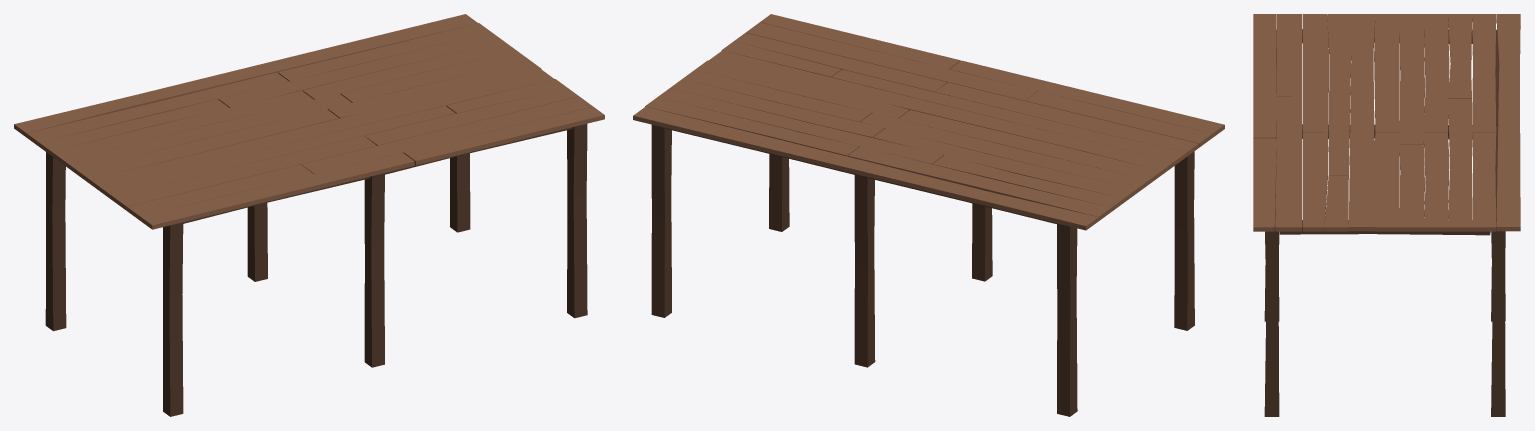
File: Table_1_Regular.fbx
3 renders of one model, left to right at view 1: azimuth 30°, elevation 25°; view 2: azimuth 150°, elevation 25°; view 3: azimuth 270°, elevation 25°, orthographic. The views are drawn at different scales.
Parts seen in each view (by area): view 1: Cube.030; view 2: Cube.030; view 3: Cube.030.
Part boxes in pixels (x1,y1,x2,y2): Cube.030: [14, 14, 604, 416]; Cube.030: [633, 14, 1224, 416]; Cube.030: [1253, 14, 1520, 416].
Size of the model in its own units: 3800 by 1619 by 2011.
